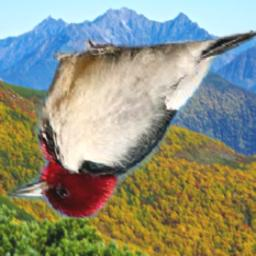Woodpecker: (8, 31, 256, 218)
